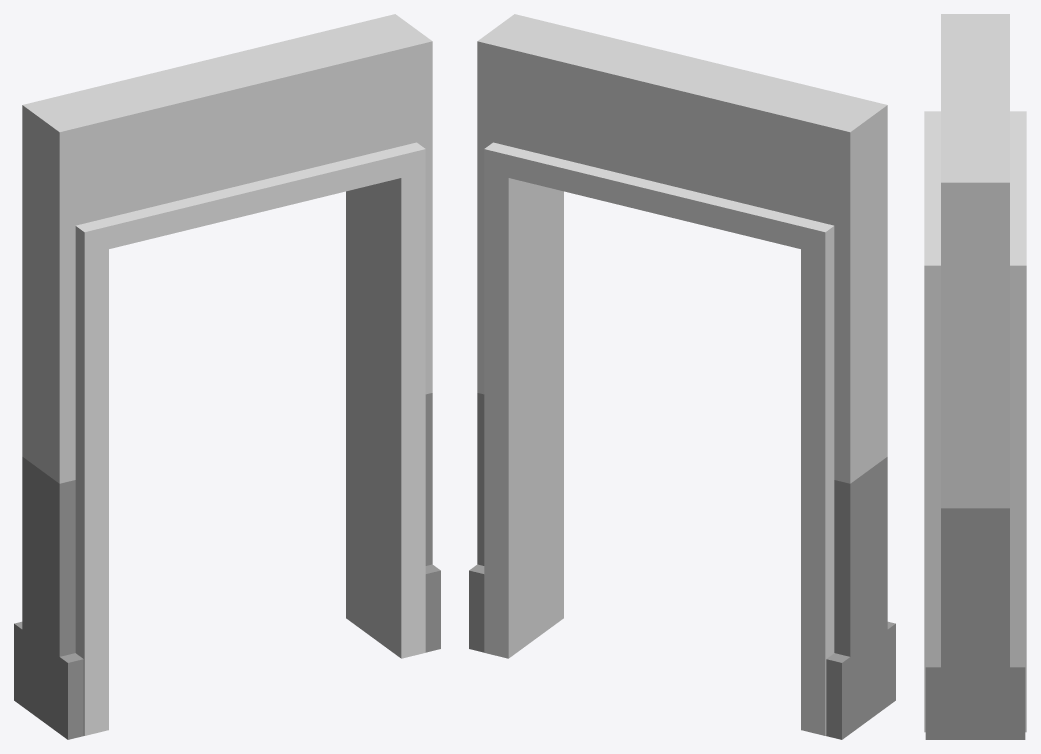
The model's file is wall2.fbx.
The picture shows the model from 3 angles, left to right: view 1: azimuth 30°, elevation 25°; view 2: azimuth 150°, elevation 25°; view 3: azimuth 270°, elevation 25°; orthographic projection. The views are drawn at different scales.
Visible parts, largest first — view 1: wall2; view 2: wall2; view 3: wall2.
Part boxes in pixels (x1=…): wall2: x1=14, y1=14, x2=440, y2=739; wall2: x1=469, y1=14, x2=895, y2=739; wall2: x1=924, y1=14, x2=1026, y2=739.
Size of the model in its own units: 104 by 160 by 26.73.
